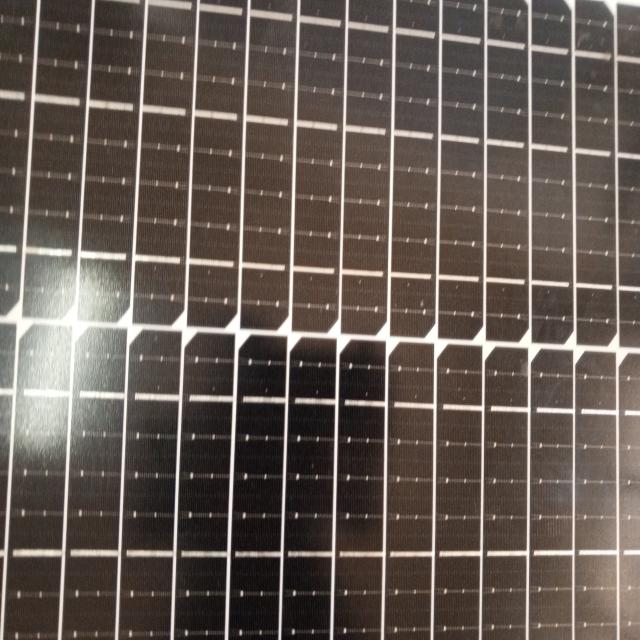Clean: (121, 4, 628, 636)
